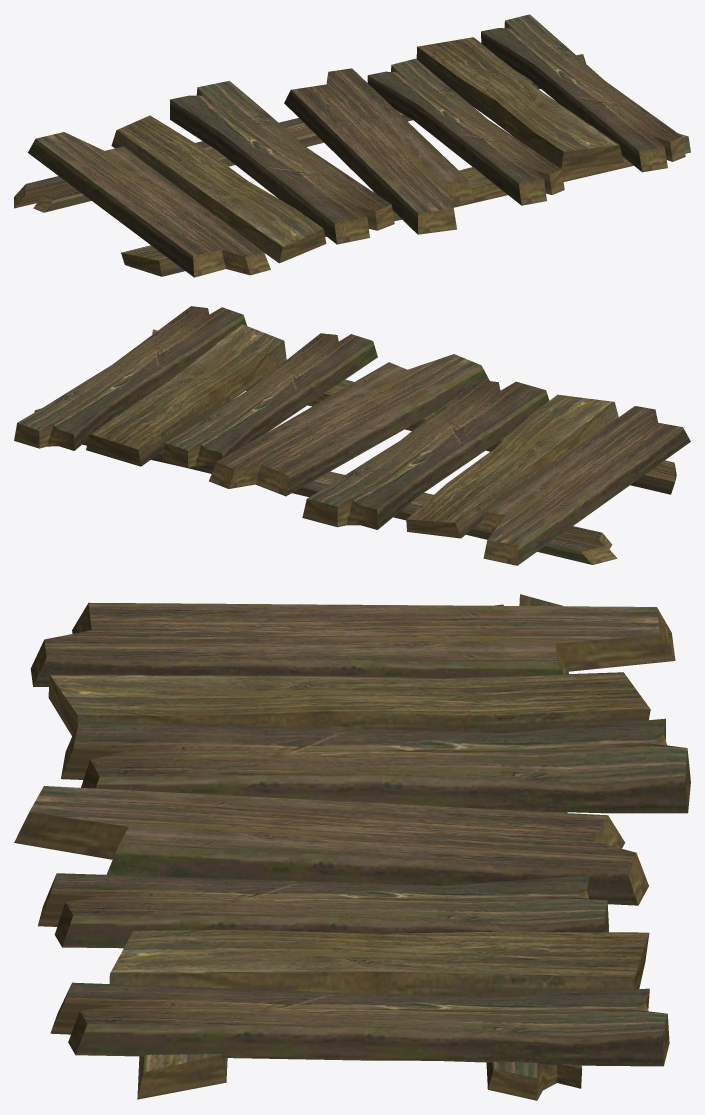
File: THL1_9.fbx
3 renders of one model, top to bottom at view 1: azimuth 30°, elevation 25°; view 2: azimuth 150°, elevation 25°; view 3: azimuth 270°, elevation 25°, orthographic. The views are drawn at different scales.
Parts seen in each view (by area): view 1: polySurface35; view 2: polySurface35; view 3: polySurface35.
Part boxes in pixels (box(x1,y1,x2,y2)): polySurface35: box(14, 14, 690, 277); polySurface35: box(14, 306, 690, 565); polySurface35: box(14, 594, 690, 1100).
Size of the model in its own units: 7.97 by 0.4507 by 4.58.
